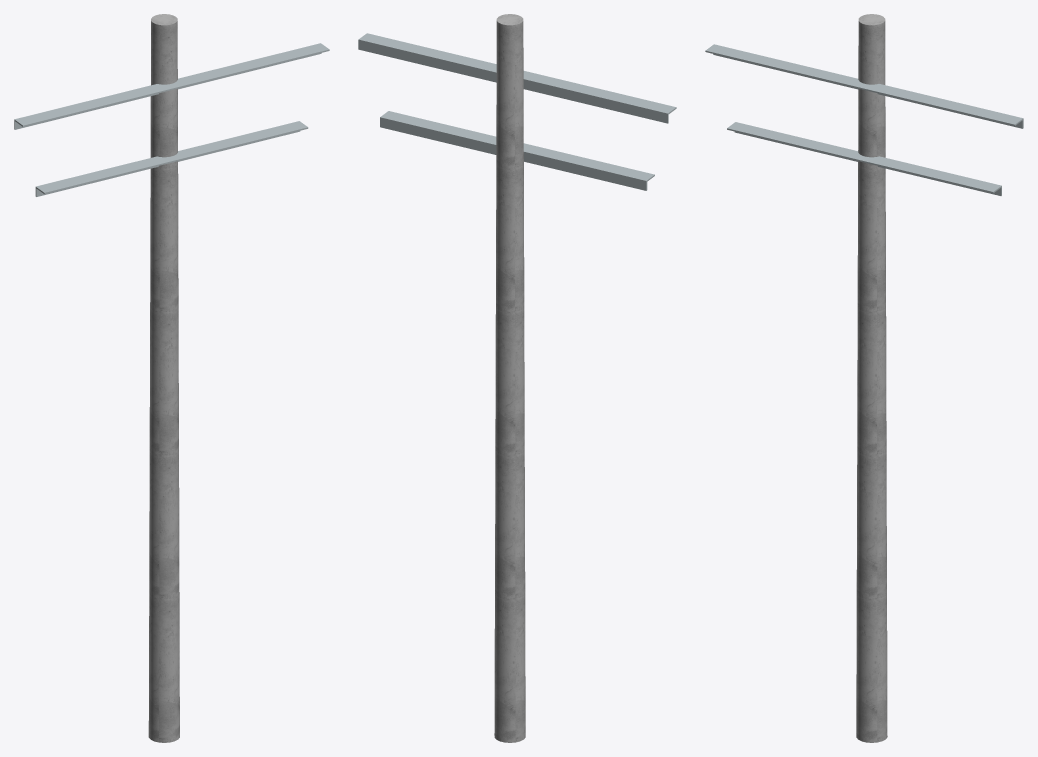
3 renders of one model, left to right at view 1: azimuth 30°, elevation 25°; view 2: azimuth 150°, elevation 25°; view 3: azimuth 330°, elevation 25°, orthographic.
Parts seen in each view (by area): view 1: 518080; view 2: 518080; view 3: 518080.
Part boxes in pixels (left/top/right/bottom): 518080: left=14, top=14, right=329, bottom=742; 518080: left=358, top=14, right=676, bottom=742; 518080: left=705, top=14, right=1023, bottom=742.
Size of the model in its own units: 2.25 by 5 by 0.258.
2 materials, 1 textured.
